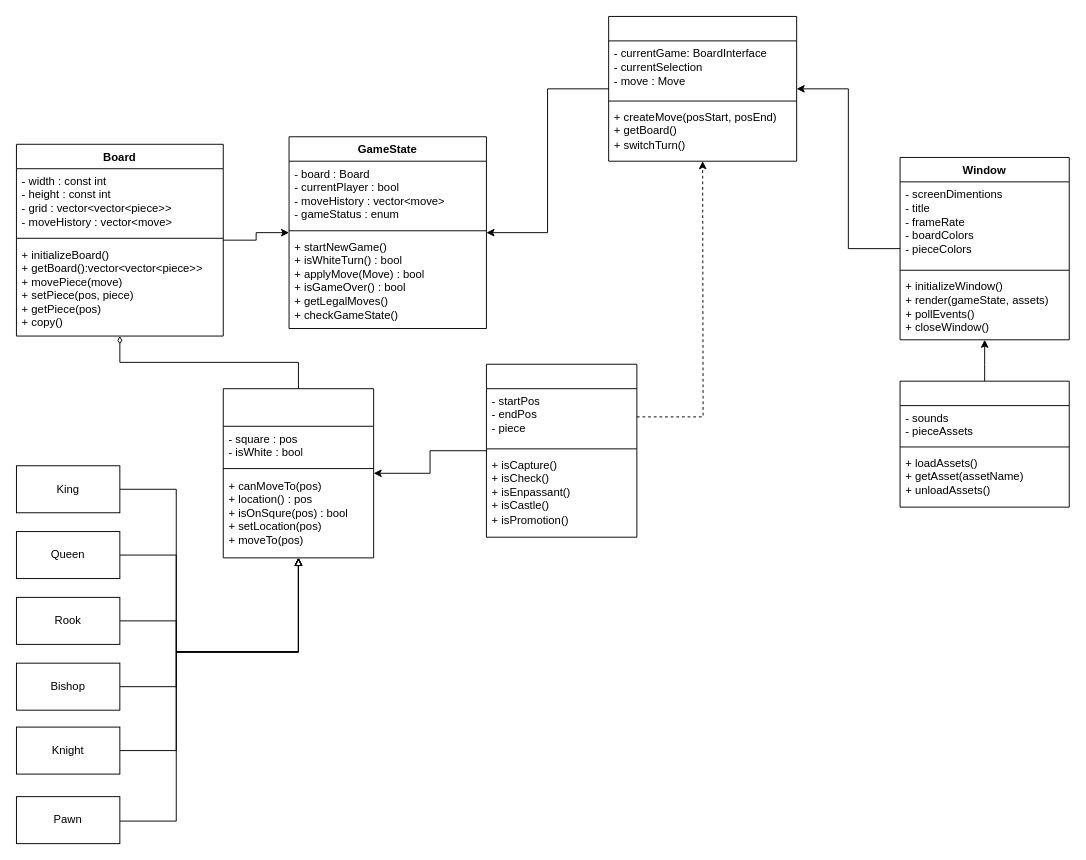
Some shapes in this 1086 by 860 pixel diagram are drawn without their labels. The shapes that lost their labels are listed below. From the top down, each one's box as (x1, y1, x2, y2) in pixels, then its label:
(608, 16, 797, 161): Controller
(486, 363, 637, 537): Move
(899, 380, 1069, 507): AssetManager
(222, 388, 374, 558): <<abstract>> Piece
